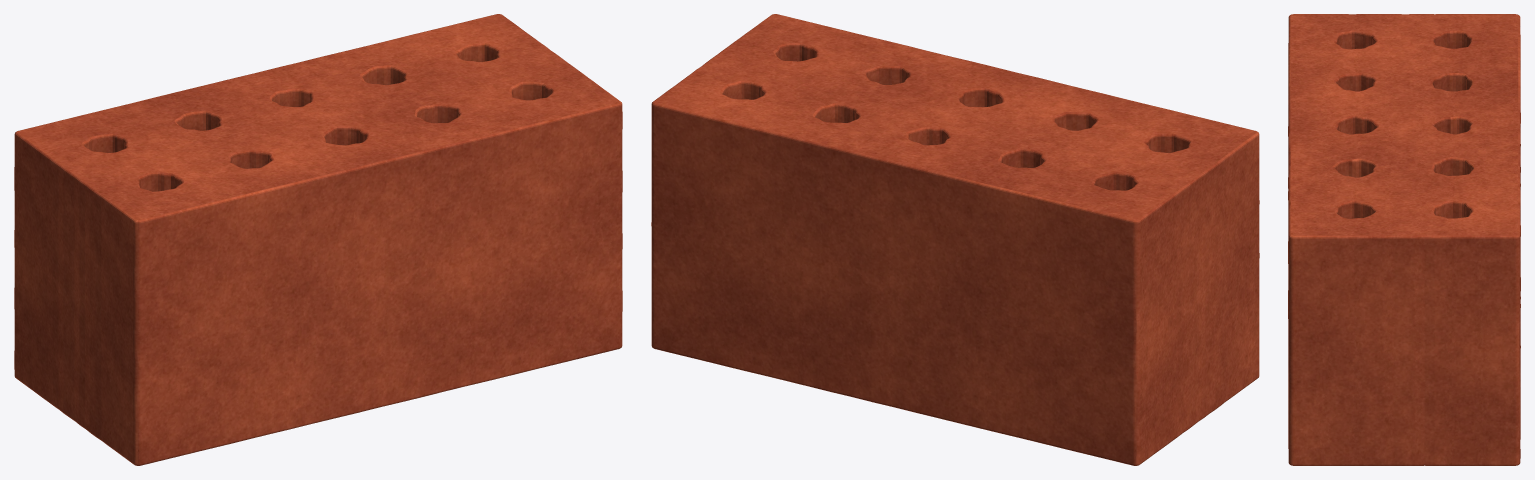
File: red-clay-double-10-hole.glb
3 renders of one model, left to right at view 1: azimuth 30°, elevation 25°; view 2: azimuth 150°, elevation 25°; view 3: azimuth 270°, elevation 25°, orthographic. The views are drawn at different scales.
Visible parts, largest first — view 1: red-clay-10-hole; view 2: red-clay-10-hole; view 3: red-clay-10-hole.
Boxes of the visible parts, bbox=[...] form: red-clay-10-hole: bbox=[14, 14, 622, 465]; red-clay-10-hole: bbox=[651, 14, 1259, 465]; red-clay-10-hole: bbox=[1288, 14, 1520, 465].
Bounding box in the file's own units: 0.25 × 0.12 × 0.11.
Materials: 1 (1 with a texture image).
